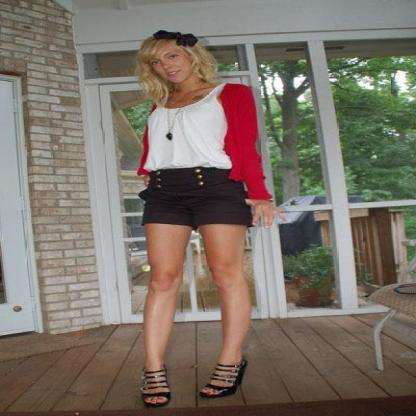shirt: (138, 166, 253, 230), (143, 95, 231, 170)
shoe: (129, 361, 241, 408)
